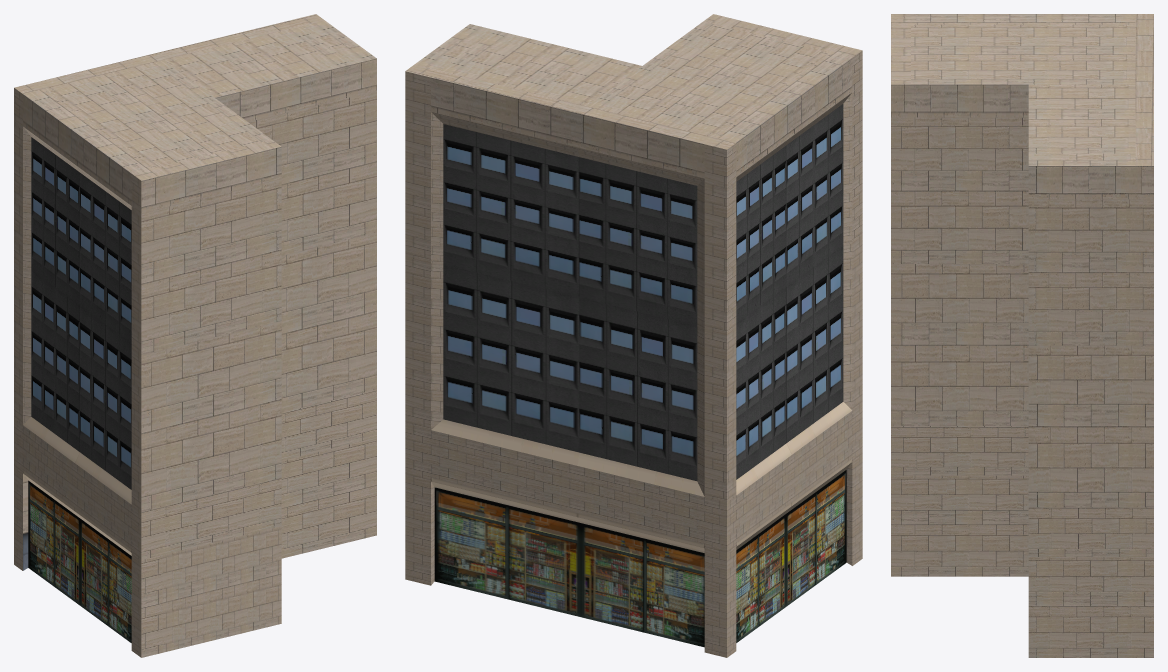
Rendered from Pizza_Delivery house10_1.fbx.
The picture shows the model from 3 angles, left to right: view 1: azimuth 30°, elevation 25°; view 2: azimuth 150°, elevation 25°; view 3: azimuth 270°, elevation 25°; orthographic projection. The views are drawn at different scales.
Visible parts, largest first — view 1: Pizza_Delivery:Pizza_Delivery:house10_1; view 2: Pizza_Delivery:Pizza_Delivery:house10_1; view 3: Pizza_Delivery:Pizza_Delivery:house10_1.
Part boxes in pixels (bbox=[...]): Pizza_Delivery:Pizza_Delivery:house10_1: bbox=[14, 14, 376, 657]; Pizza_Delivery:Pizza_Delivery:house10_1: bbox=[405, 14, 862, 657]; Pizza_Delivery:Pizza_Delivery:house10_1: bbox=[891, 14, 1153, 657].
Bounding box in the file's own units: 12.99 × 19.6 × 9.49.
